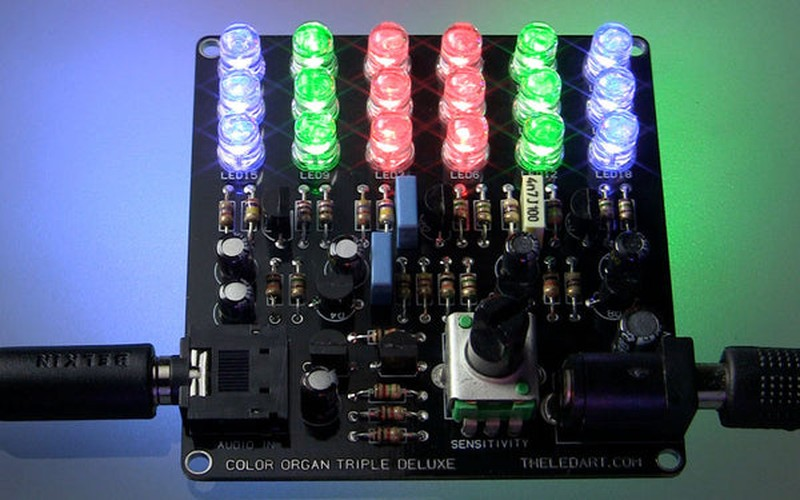Resistor: (347, 373, 434, 471), (291, 188, 400, 241), (394, 250, 485, 307), (434, 189, 521, 237), (259, 258, 316, 315), (531, 264, 583, 326), (215, 200, 265, 241), (592, 188, 641, 226), (348, 327, 419, 350)
